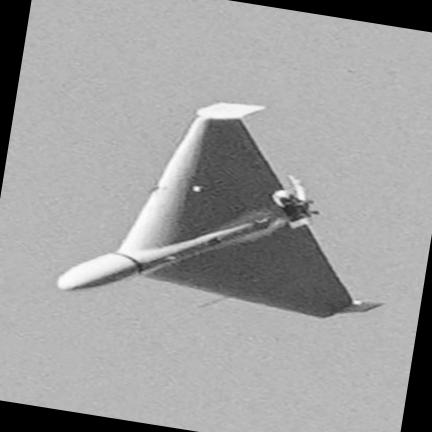Shahed: (56, 101, 381, 318)
